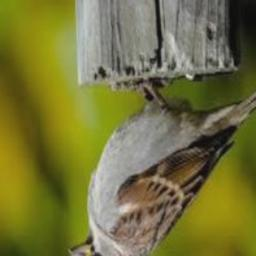Sparrow: (69, 72, 256, 256)
